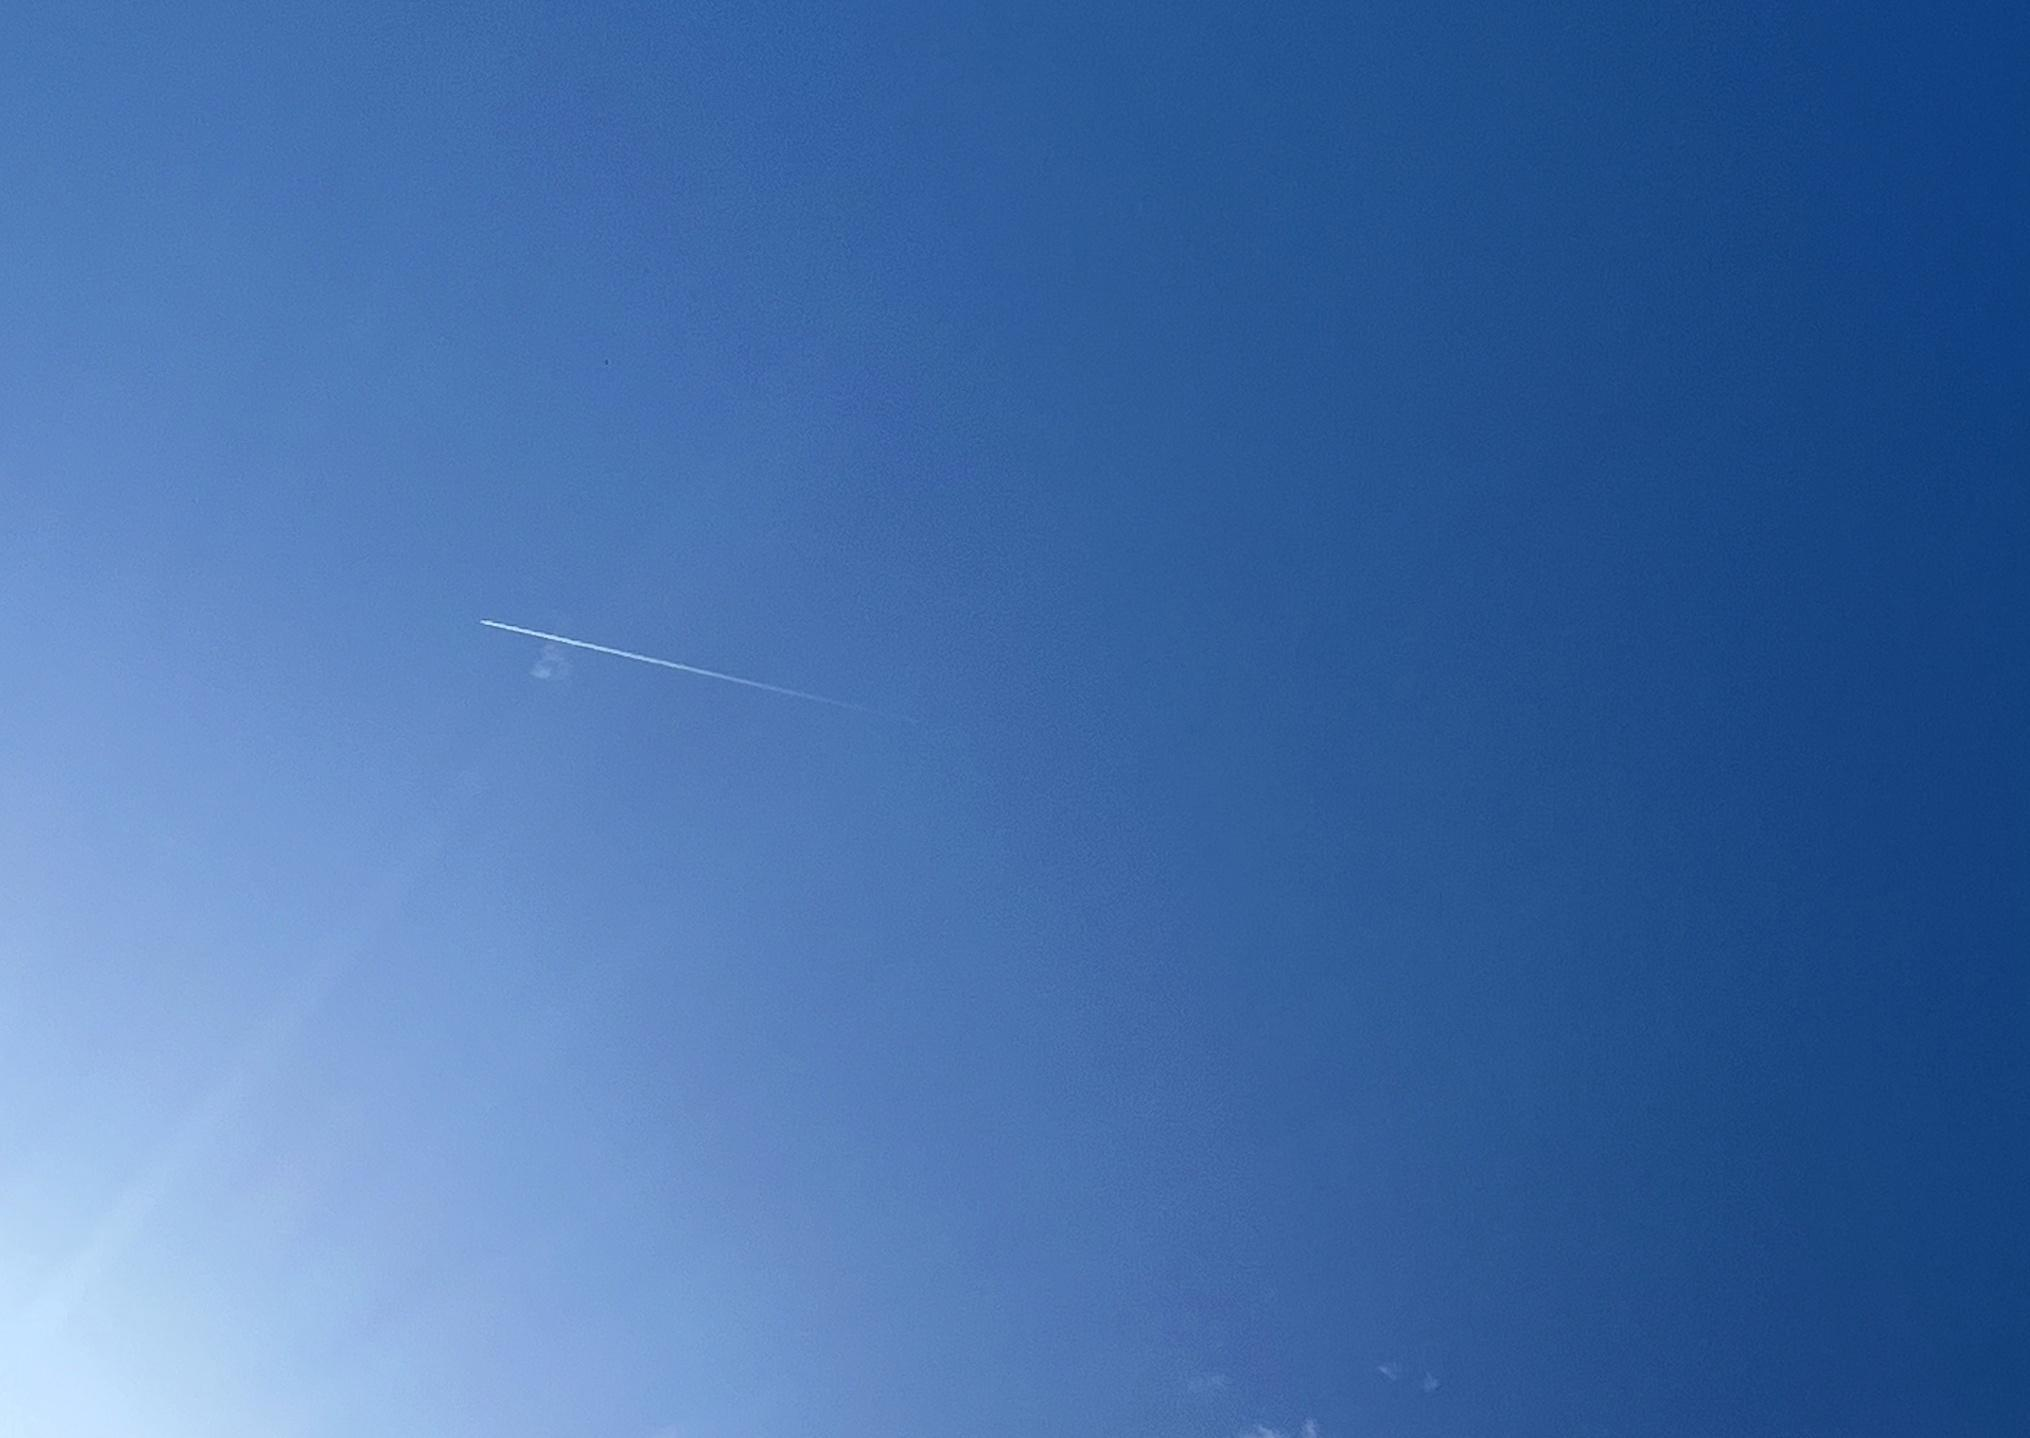Plane: (450, 602, 894, 722)
